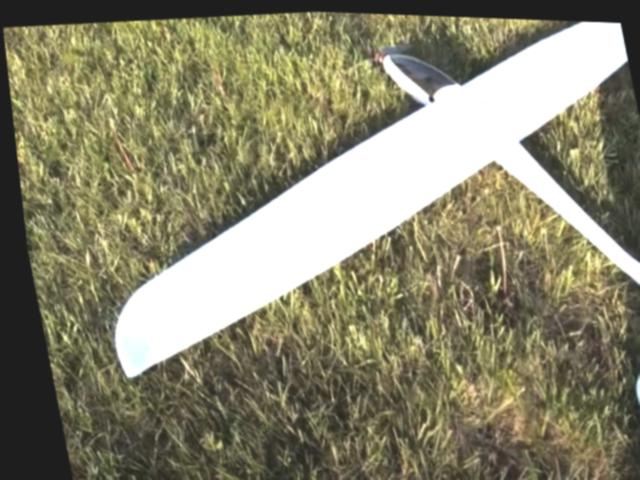iha: (45, 1, 640, 480)
